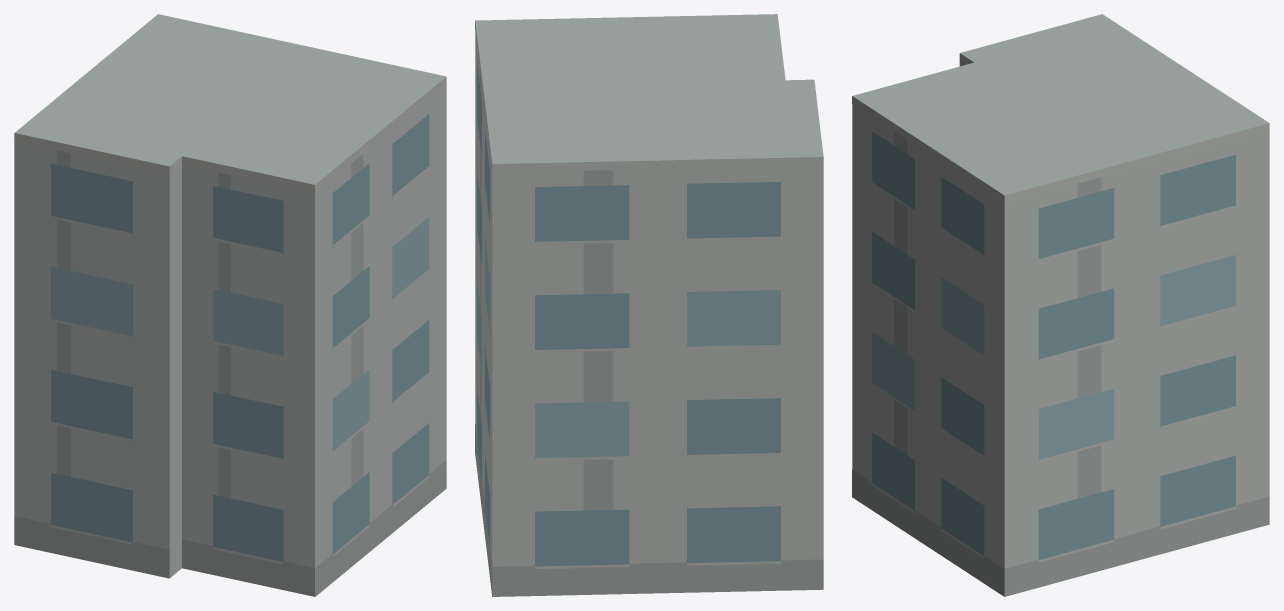
The model's file is residential-af8b1b33-7c02-4bd5-ab11-bf35eebaae9a.glb.
The picture shows the model from 3 angles, left to right: view 1: azimuth 30°, elevation 25°; view 2: azimuth 150°, elevation 25°; view 3: azimuth 270°, elevation 25°; orthographic projection. The views are drawn at different scales.
Visible parts, largest first — view 1: residential-af8b1b33-7c02-4bd5-ab11-bf35eebaae9a.tmp; view 2: residential-af8b1b33-7c02-4bd5-ab11-bf35eebaae9a.tmp; view 3: residential-af8b1b33-7c02-4bd5-ab11-bf35eebaae9a.tmp.
Part boxes in pixels (<box>): residential-af8b1b33-7c02-4bd5-ab11-bf35eebaae9a.tmp: <box>14,14,446,596</box>; residential-af8b1b33-7c02-4bd5-ab11-bf35eebaae9a.tmp: <box>475,14,823,596</box>; residential-af8b1b33-7c02-4bd5-ab11-bf35eebaae9a.tmp: <box>852,14,1269,596</box>.
Size of the model in its own units: 11.84 by 12.2 by 11.51.
